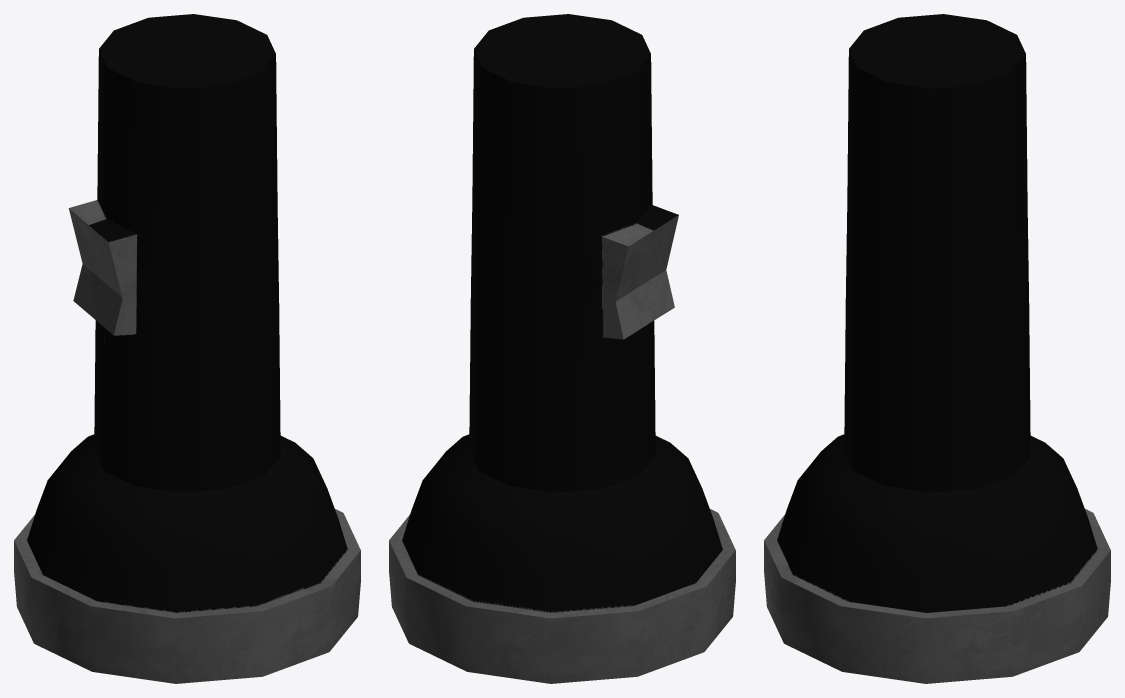
File: Lampara.fbx
3 renders of one model, left to right at view 1: azimuth 30°, elevation 25°; view 2: azimuth 150°, elevation 25°; view 3: azimuth 270°, elevation 25°, orthographic.
Visible parts, largest first — view 1: Lampara; view 2: Lampara; view 3: Lampara.
Part boxes in pixels (x1=…): Lampara: x1=14, y1=14, x2=360, y2=683; Lampara: x1=389, y1=14, x2=735, y2=683; Lampara: x1=764, y1=14, x2=1110, y2=683.
Bounding box in the file's own units: 219 × 390 × 219.
Materials: 1 (1 with a texture image).
